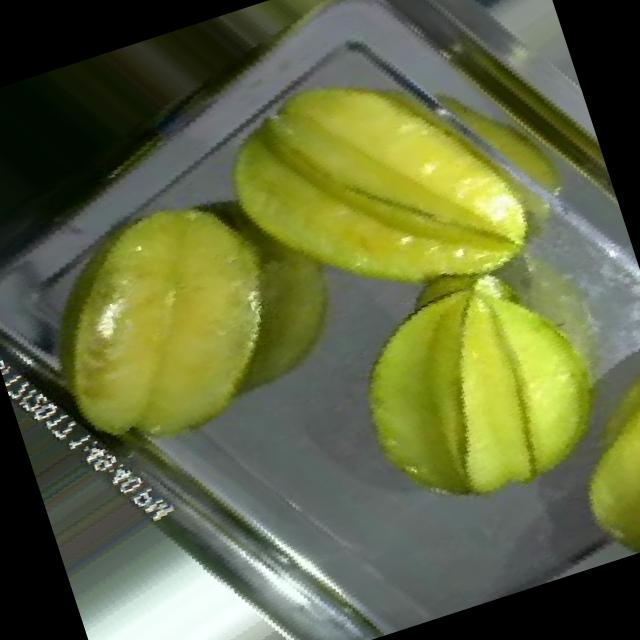fruit: (158, 0, 609, 416), (268, 191, 640, 599), (0, 135, 370, 508), (512, 322, 640, 572)
